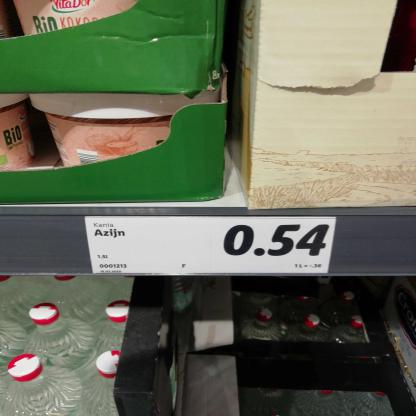prtg: (86, 217, 338, 275)
